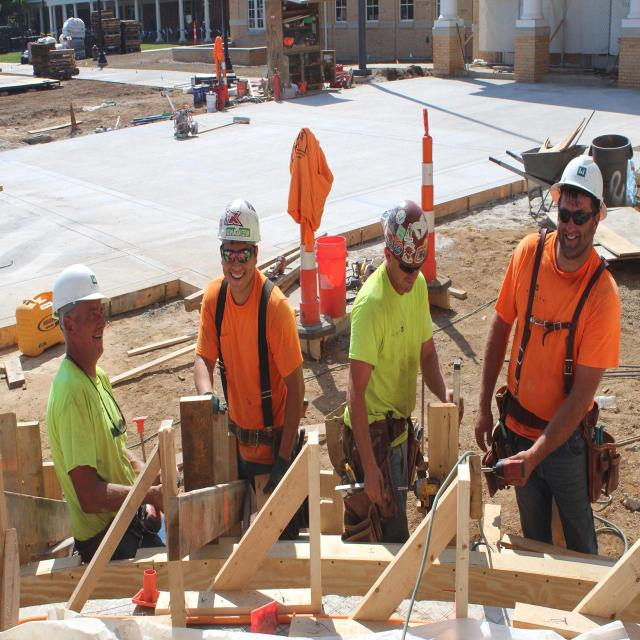face_nomask: (75, 304, 113, 356), (219, 242, 260, 290), (556, 199, 592, 252), (400, 255, 425, 290)
glasses: (219, 242, 258, 269), (556, 205, 592, 229)
hand_glove: (260, 441, 303, 503)
hand_noglove: (357, 425, 391, 511), (497, 432, 540, 495), (472, 373, 498, 452)
head_helmet: (379, 198, 430, 268), (50, 263, 110, 317), (550, 154, 608, 208), (216, 196, 261, 246)
person: (482, 155, 626, 547), (339, 195, 452, 541), (194, 210, 301, 500), (49, 262, 146, 566)
